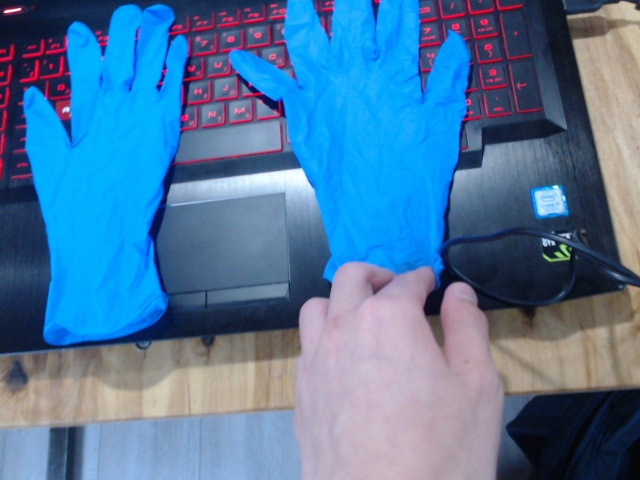medical_glove: (229, 1, 469, 266), (22, 4, 189, 343)
